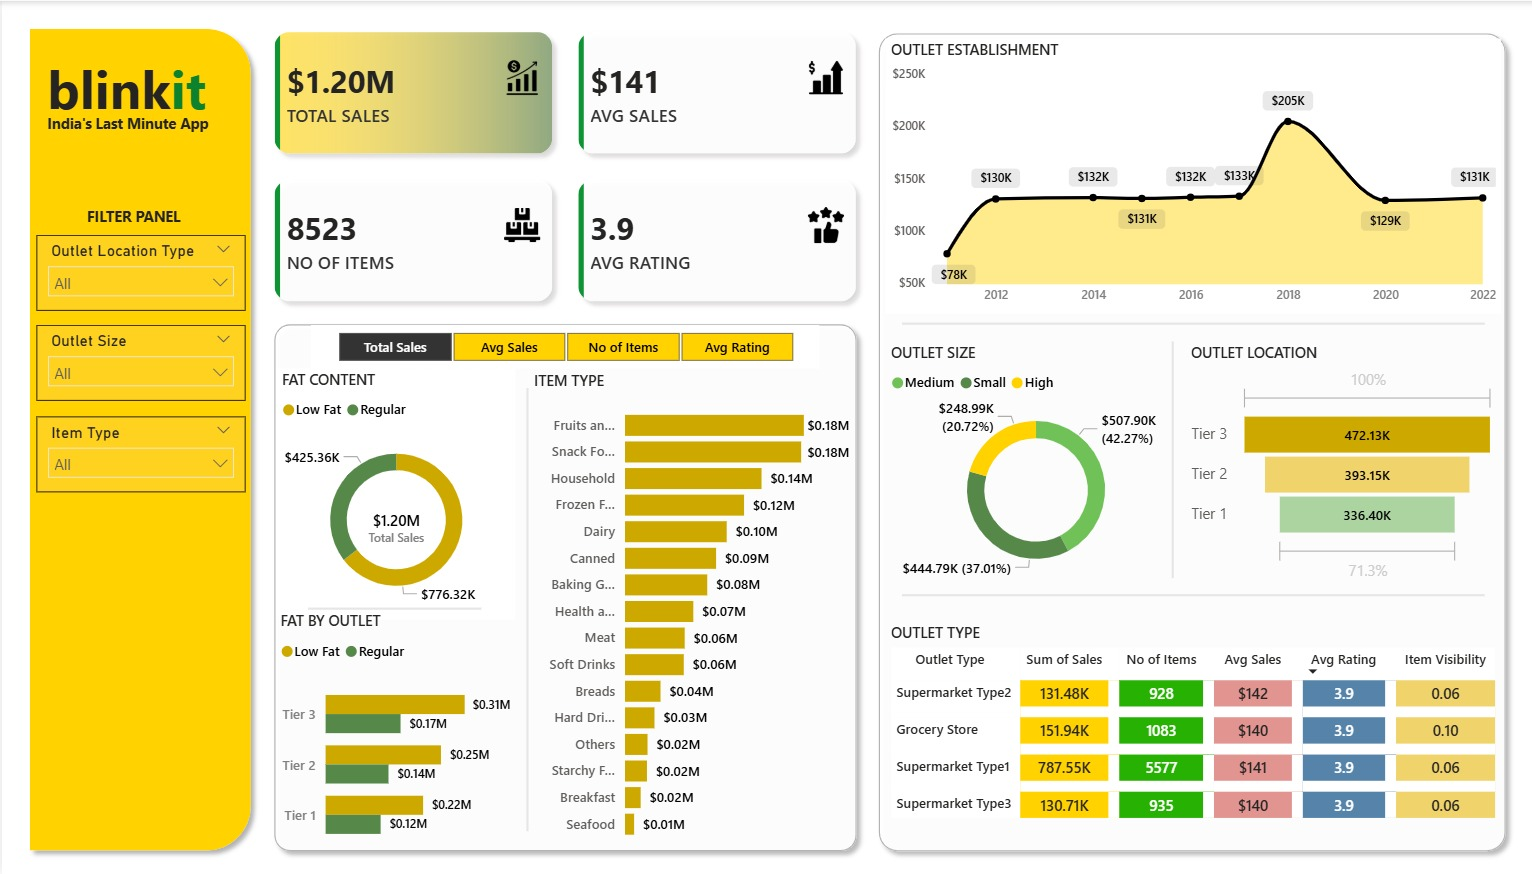

The page's visual inventory and layout, read from the dashboard file:
{"tool":"powerbi","page":{"name":"Page 1","canvas":[1400,800],"ordinal":0},"visuals":[{"type":"shape","box":[16.6,16.6,220.3,770.1],"z":0},{"type":"textbox","box":[16.6,41.4,195.4,74.5],"z":1000},{"type":"textbox","box":[31.5,97.7,167.3,34.8],"z":2000},{"type":"cardVisual","fields":{"Data":["BlinkIT Grocery Data.Total Sales","BlinkIT Grocery Data.Avg Sales","BlinkIT Grocery Data.No of Items","BlinkIT Grocery Data.Avg Rating"]},"box":[237.3,16.5,557.2,270.3],"z":3000},{"type":"shape","box":[240,286.9,551,500.1],"z":4000},{"type":"donutChart","title":"FAT CONTENT","fields":{"Y":["BlinkIT Grocery Data.Total Sales"],"Category":["BlinkIT Grocery Data.Item Fat Content"]},"box":[251.7,336.2,218.6,230.2],"z":5000},{"type":"slicer","fields":{"Values":["Metrics.Metrics"]},"box":[283,297,465.4,39.7],"z":6000},{"type":"cardVisual","fields":{"Data":["BlinkIT Grocery Data.Total Sales"]},"box":[293.1,448.8,134.1,66.2],"z":7000},{"type":"clusteredBarChart","title":"FAT BY OUTLET","fields":{"Y":["BlinkIT Grocery Data.Total Sales"],"Category":["BlinkIT Grocery Data.Outlet Location Type"],"Series":["BlinkIT Grocery Data.Item Fat Content"]},"box":[250,557,220,230],"z":8000},{"type":"shape","box":[280,544,158.8,25],"z":9000},{"type":"shape","box":[470,354.3,22.9,405.7],"z":10000},{"type":"barChart","title":"ITEM TYPE","fields":{"Y":["BlinkIT Grocery Data.Total Sales"],"Category":["BlinkIT Grocery Data.Item Type"]},"box":[481.4,337.1,298.6,440],"z":11000},{"type":"shape","box":[793.3,20,591.7,766.7],"z":12000},{"type":"lineChart","title":"OUTLET ESTABLISHMENT","fields":{"Y":["BlinkIT Grocery Data.Total Sales"],"Category":["BlinkIT Grocery Data.Outlet Establishment Year"]},"box":[808.3,35,563.3,251.7],"z":13000},{"type":"donutChart","title":"OUTLET SIZE","fields":{"Y":["BlinkIT Grocery Data.Total Sales"],"Category":["BlinkIT Grocery Data.Outlet Size"]},"box":[808.3,311.7,275,225],"z":14000},{"type":"shape","box":[823.3,283.3,533.3,25],"z":15000},{"type":"funnel","title":"OUTLET LOCATION","fields":{"Y":["Sum(BlinkIT Grocery Data.Sales)"],"Category":["BlinkIT Grocery Data.Outlet Location Type"]},"box":[1083.3,311.7,288.3,225],"z":16000},{"type":"shape","box":[823.3,531.7,533.3,25],"z":17000},{"type":"shape","box":[1060,311.7,23.3,216.7],"z":18000},{"type":"pivotTable","title":"OUTLET TYPE","fields":{"Rows":["BlinkIT Grocery Data.Outlet Type"],"Values":["Sum(BlinkIT Grocery Data.Sales)","BlinkIT Grocery Data.No of Items","BlinkIT Grocery Data.Avg Sales","BlinkIT Grocery Data.Avg Rating","Avg(BlinkIT Grocery Data.Item Visibility)"]},"box":[808.8,568.8,563.8,195],"z":19000},{"type":"slicer","fields":{"Values":["BlinkIT Grocery Data.Outlet Location Type"]},"box":[31,214,191,69],"z":20000},{"type":"slicer","fields":{"Values":["BlinkIT Grocery Data.Outlet Size"]},"box":[31,296,191,69],"z":21000},{"type":"slicer","fields":{"Values":["BlinkIT Grocery Data.Item Type"]},"box":[31,380,191,69],"z":22000},{"type":"textbox","box":[73,182,108,32],"z":23000}]}

Visuals, with their boxes in screenshot pixels (x1, y1, x2, y2), scaled from the page's 1400x800 canvas onto the 1532x874 screenshot:
shape: 18,18,259,859
textbox: 18,45,232,127
textbox: 34,107,218,145
cardVisual - BlinkIT Grocery Data.Total Sales x BlinkIT Grocery Data.Avg Sales: 260,18,869,313
shape: 263,313,866,860
"FAT CONTENT" donutChart: 275,367,515,619
slicer - Metrics.Metrics: 310,324,819,368
cardVisual - BlinkIT Grocery Data.Total Sales: 321,490,467,563
"FAT BY OUTLET" clusteredBarChart: 274,609,514,860
shape: 306,594,480,622
shape: 514,387,539,830
"ITEM TYPE" barChart: 527,368,854,849
shape: 868,22,1516,859
"OUTLET ESTABLISHMENT" lineChart: 885,38,1501,313
"OUTLET SIZE" donutChart: 885,341,1185,586
shape: 901,310,1485,337
"OUTLET LOCATION" funnel: 1185,341,1501,586
shape: 901,581,1485,608
shape: 1160,341,1185,577
"OUTLET TYPE" pivotTable: 885,621,1502,834
slicer - BlinkIT Grocery Data.Outlet Location Type: 34,234,243,309
slicer - BlinkIT Grocery Data.Outlet Size: 34,323,243,399
slicer - BlinkIT Grocery Data.Item Type: 34,415,243,491
textbox: 80,199,198,234
